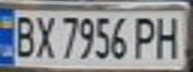5: (93, 14, 115, 61)
6: (109, 14, 133, 61)
7: (57, 12, 78, 60)
9: (75, 14, 96, 61)
B: (9, 12, 39, 60)
H: (151, 12, 187, 60)
P: (130, 13, 163, 60)
X: (30, 12, 57, 60)
